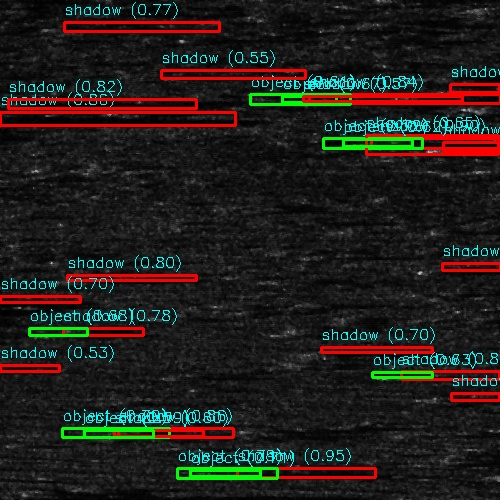rock: (244, 134, 453, 153), (352, 143, 500, 156), (0, 95, 59, 112), (442, 385, 473, 408), (426, 70, 499, 79), (31, 275, 114, 280), (366, 129, 429, 134), (464, 5, 500, 10), (377, 374, 418, 377), (490, 100, 500, 107)
shadow: (0, 106, 193, 131), (2, 95, 279, 112), (349, 134, 500, 153), (458, 385, 500, 408), (441, 143, 500, 156), (73, 275, 196, 280), (398, 129, 500, 134), (463, 70, 500, 79), (398, 374, 500, 377), (0, 295, 14, 304)
